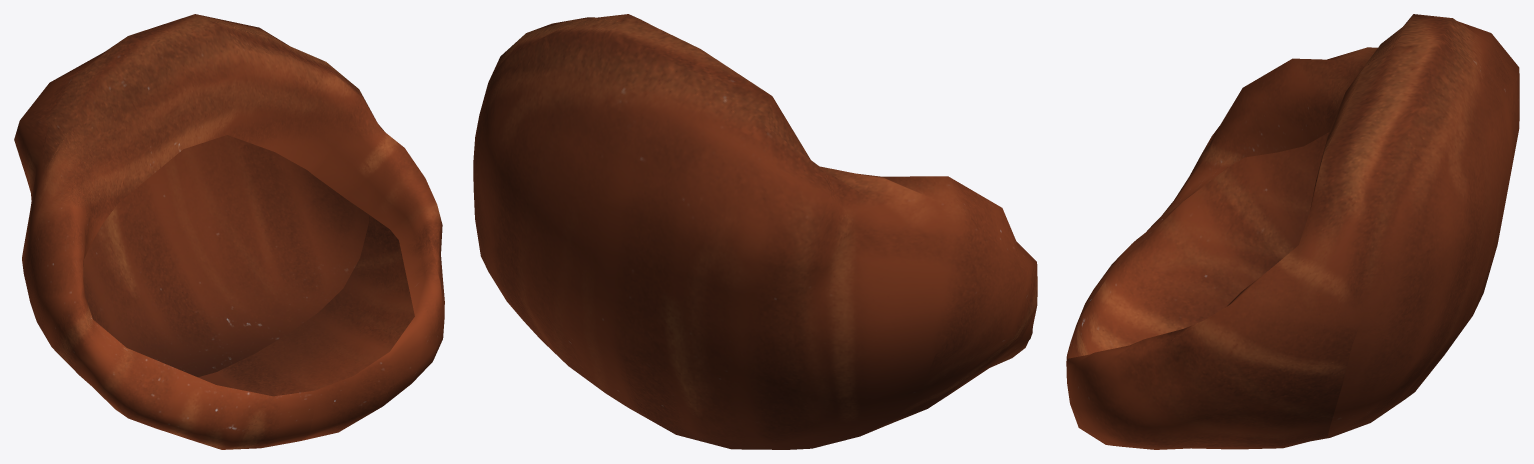
Rendered from hair_henrique.dae.
3 views of the same model, side by side, from view 1: azimuth 30°, elevation 25°; view 2: azimuth 150°, elevation 25°; view 3: azimuth 270°, elevation 25° (orthographic). The views are drawn at different scales.
Parts seen in each view (by area): view 1: hair; view 2: hair; view 3: hair.
Boxes of the visible parts, x1,y1,x2,y2 form: hair: [14, 14, 444, 449]; hair: [473, 14, 1037, 449]; hair: [1066, 14, 1519, 449].
Bounding box in the file's own units: 90.81 × 73.37 × 75.48.
Materials: 1 (1 with a texture image).
